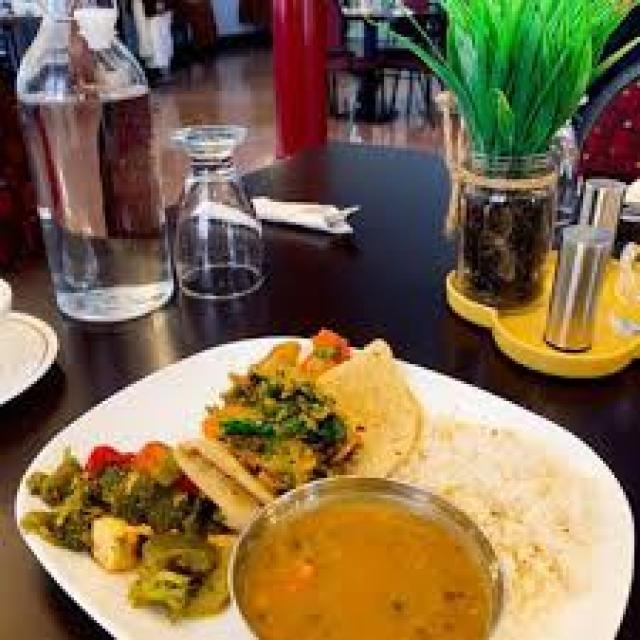dal: (246, 484, 499, 640)
veg-fry: (194, 323, 395, 495)
